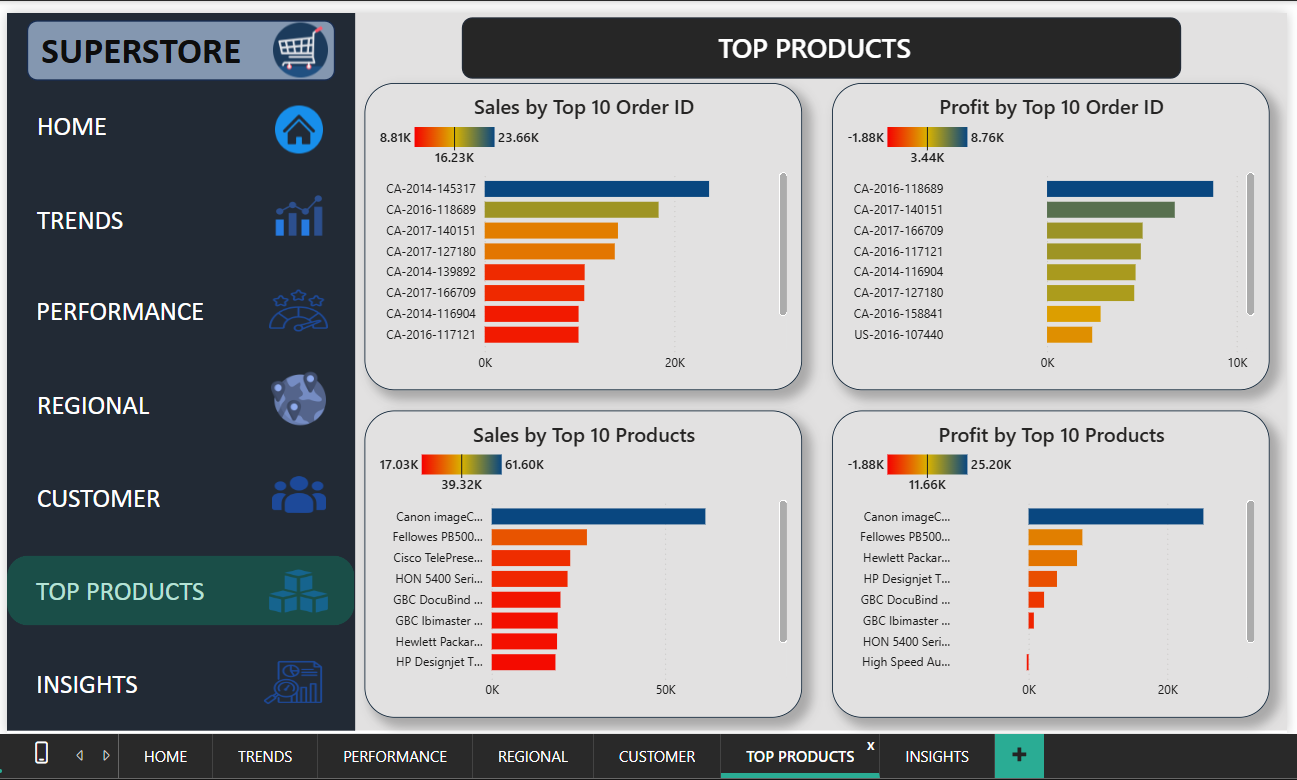

What the dashboard file says about the page in this screenshot:
{"tool":"powerbi","page":{"name":"TOP PRODUCTS","canvas":[1280,720],"ordinal":5},"visuals":[{"type":"clusteredBarChart","title":"Sales by Top 10 Products","fields":{"Category":["Sample - Superstore.Product Name"],"Y":["Sum(Sample - Superstore.Sales)"]},"box":[357.5,397.5,437.5,307.5],"z":0},{"type":"clusteredBarChart","title":"Sales by Top 10 Order ID","fields":{"Y":["Sum(Sample - Superstore.Sales)"],"Category":["Sample - Superstore.Order ID"]},"box":[357.5,70,437.5,307.5],"z":1},{"type":"textbox","box":[706.2,11.2,212.5,50],"z":2},{"type":"clusteredBarChart","title":"Profit by Top 10 Order ID","fields":{"Category":["Sample - Superstore.Order ID"],"Y":["Sum(Sample - Superstore.Profit)"]},"box":[825,70,437.5,307.5],"z":3},{"type":"clusteredBarChart","title":"Profit by Top 10 Products","fields":{"Category":["Sample - Superstore.Product Name"],"Y":["Sum(Sample - Superstore.Profit)"]},"box":[825,397.5,437.5,307.5],"z":4},{"type":"shape","box":[0,542.5,347.5,70],"z":5},{"type":"actionButton","box":[0,82.5,347.5,70],"z":6},{"type":"actionButton","box":[0,166.2,347.5,70],"z":7},{"type":"actionButton","box":[0,262.5,347.5,70],"z":8},{"type":"actionButton","box":[0,360,347.5,70],"z":9},{"type":"actionButton","box":[0,448.8,347.5,70],"z":10},{"type":"actionButton","box":[0,635,347.5,70],"z":11}]}

Visuals, with their boxes on the page's 1280x720 design canvas (x1, y1, x2, y2). These are canvas units, not pixel positions in the 1297x780 screenshot, which may show the page scaled, cropped or inside an application window:
"Sales by Top 10 Products" clusteredBarChart: Rect(358, 398, 795, 705)
"Sales by Top 10 Order ID" clusteredBarChart: Rect(358, 70, 795, 378)
textbox: Rect(706, 11, 919, 61)
"Profit by Top 10 Order ID" clusteredBarChart: Rect(825, 70, 1262, 378)
"Profit by Top 10 Products" clusteredBarChart: Rect(825, 398, 1262, 705)
shape: Rect(0, 542, 348, 612)
actionButton: Rect(0, 82, 348, 152)
actionButton: Rect(0, 166, 348, 236)
actionButton: Rect(0, 262, 348, 332)
actionButton: Rect(0, 360, 348, 430)
actionButton: Rect(0, 449, 348, 519)
actionButton: Rect(0, 635, 348, 705)
